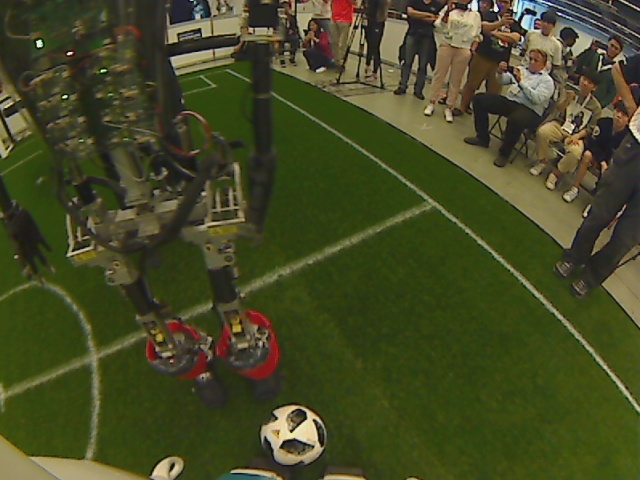ball: (258, 403, 329, 468)
